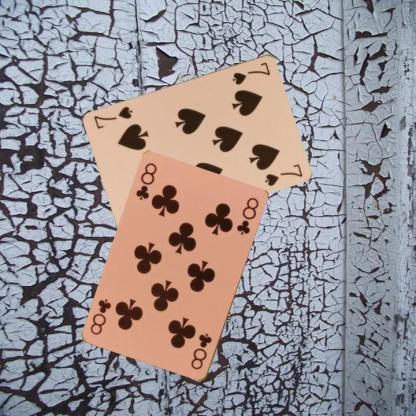7s: (230, 59, 272, 86)
8c: (188, 330, 214, 372), (134, 160, 158, 202)
